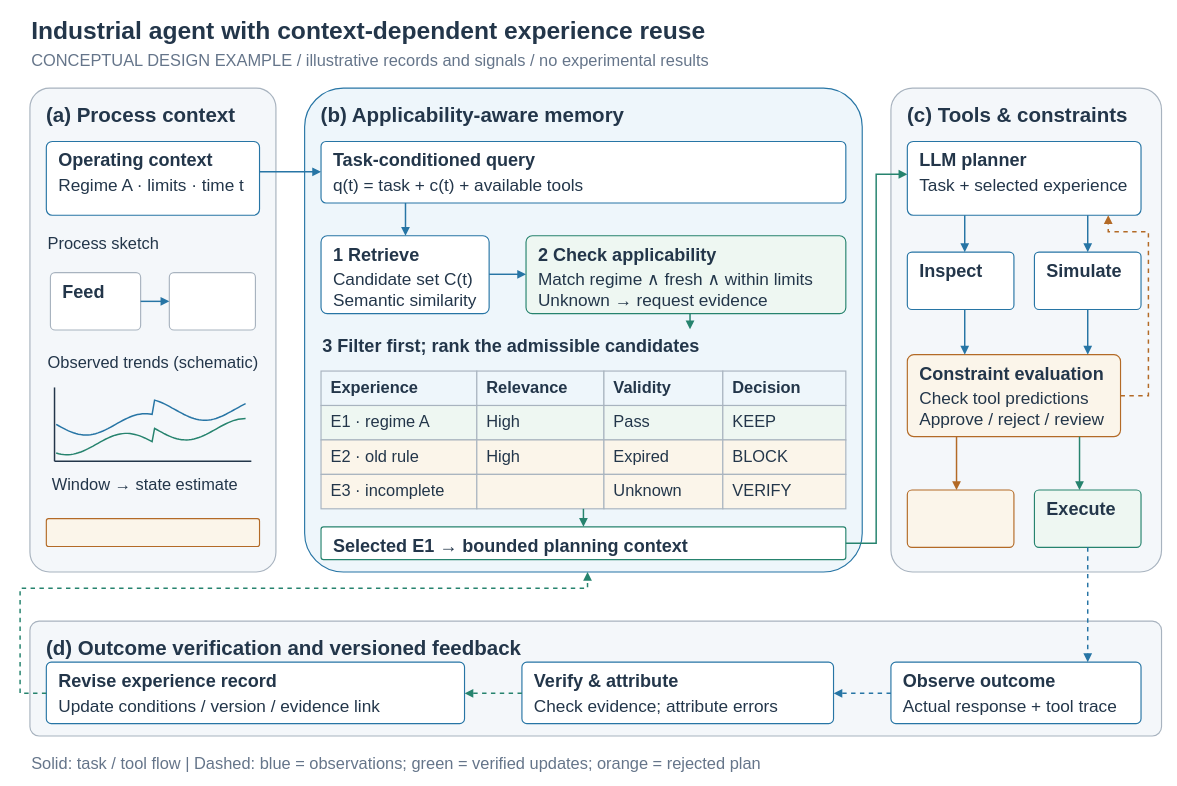
This 1177x786 diagram has some shape labels left out. Here are the shapes that lost their labels. From the top down, the centre of each, then its label:
At (x=212, y=301): "Unit".
At (x=540, y=491): "Moderate".
At (x=152, y=532): "Constraints + provenance".
At (x=960, y=518): "Review".
